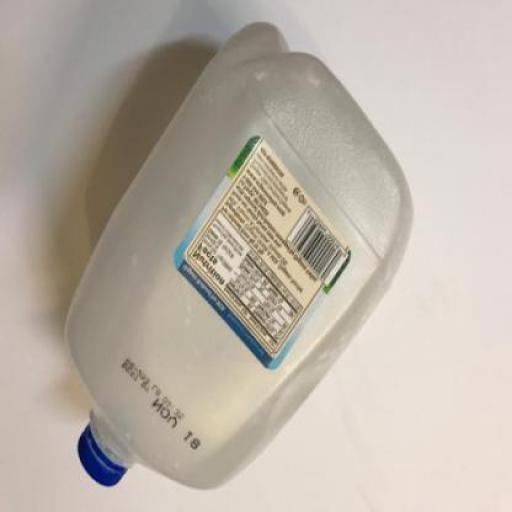plastic: (67, 20, 415, 490), (79, 422, 127, 486)
